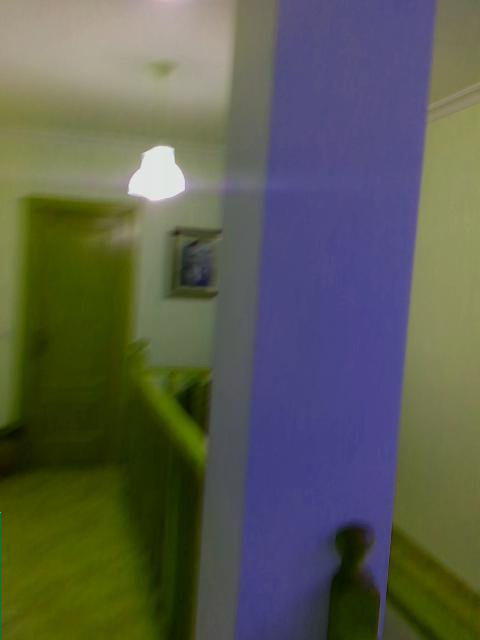closed_door: (14, 193, 143, 467)
